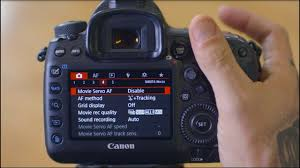camera: (45, 5, 261, 161)
